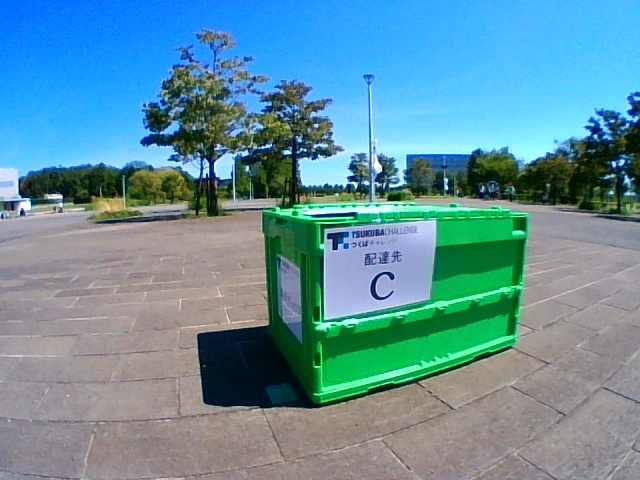green_box: (262, 202, 528, 402)
tag_c: (337, 232, 430, 300)
